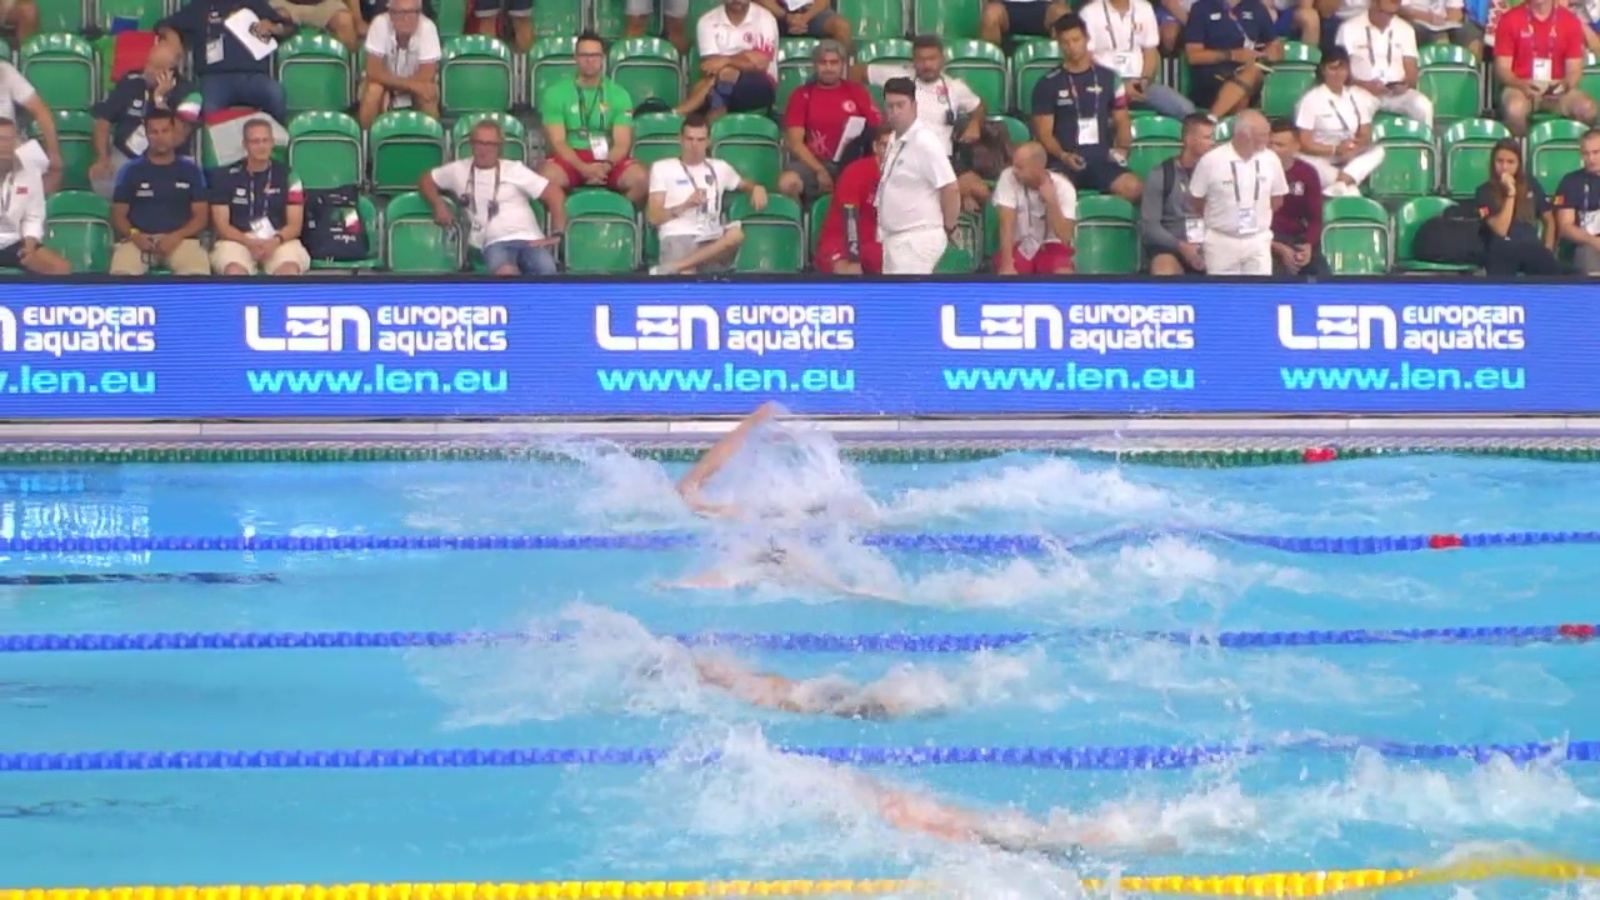swimmerw: (755, 759, 1235, 864), (654, 404, 934, 523), (651, 649, 970, 719), (665, 545, 974, 607)
